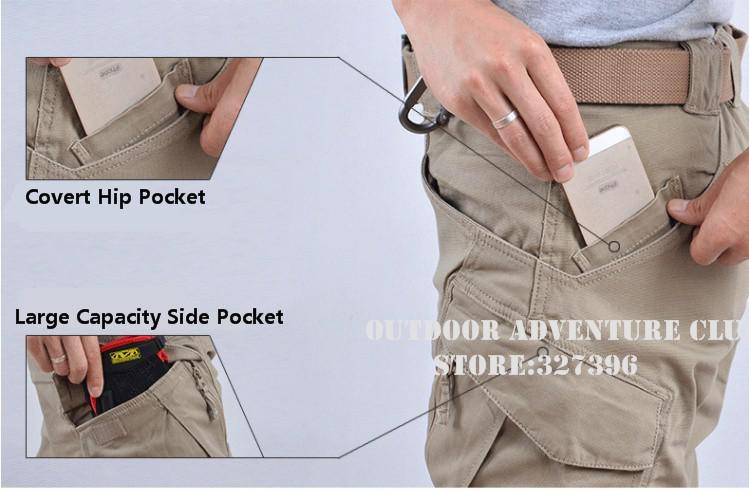pants: (391, 38, 744, 492)
